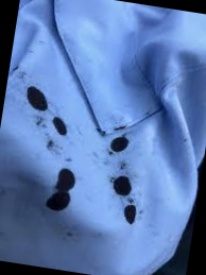ink: (46, 168, 76, 213), (26, 87, 50, 111), (112, 175, 133, 196), (111, 134, 130, 154), (123, 203, 138, 227), (51, 116, 67, 134)
